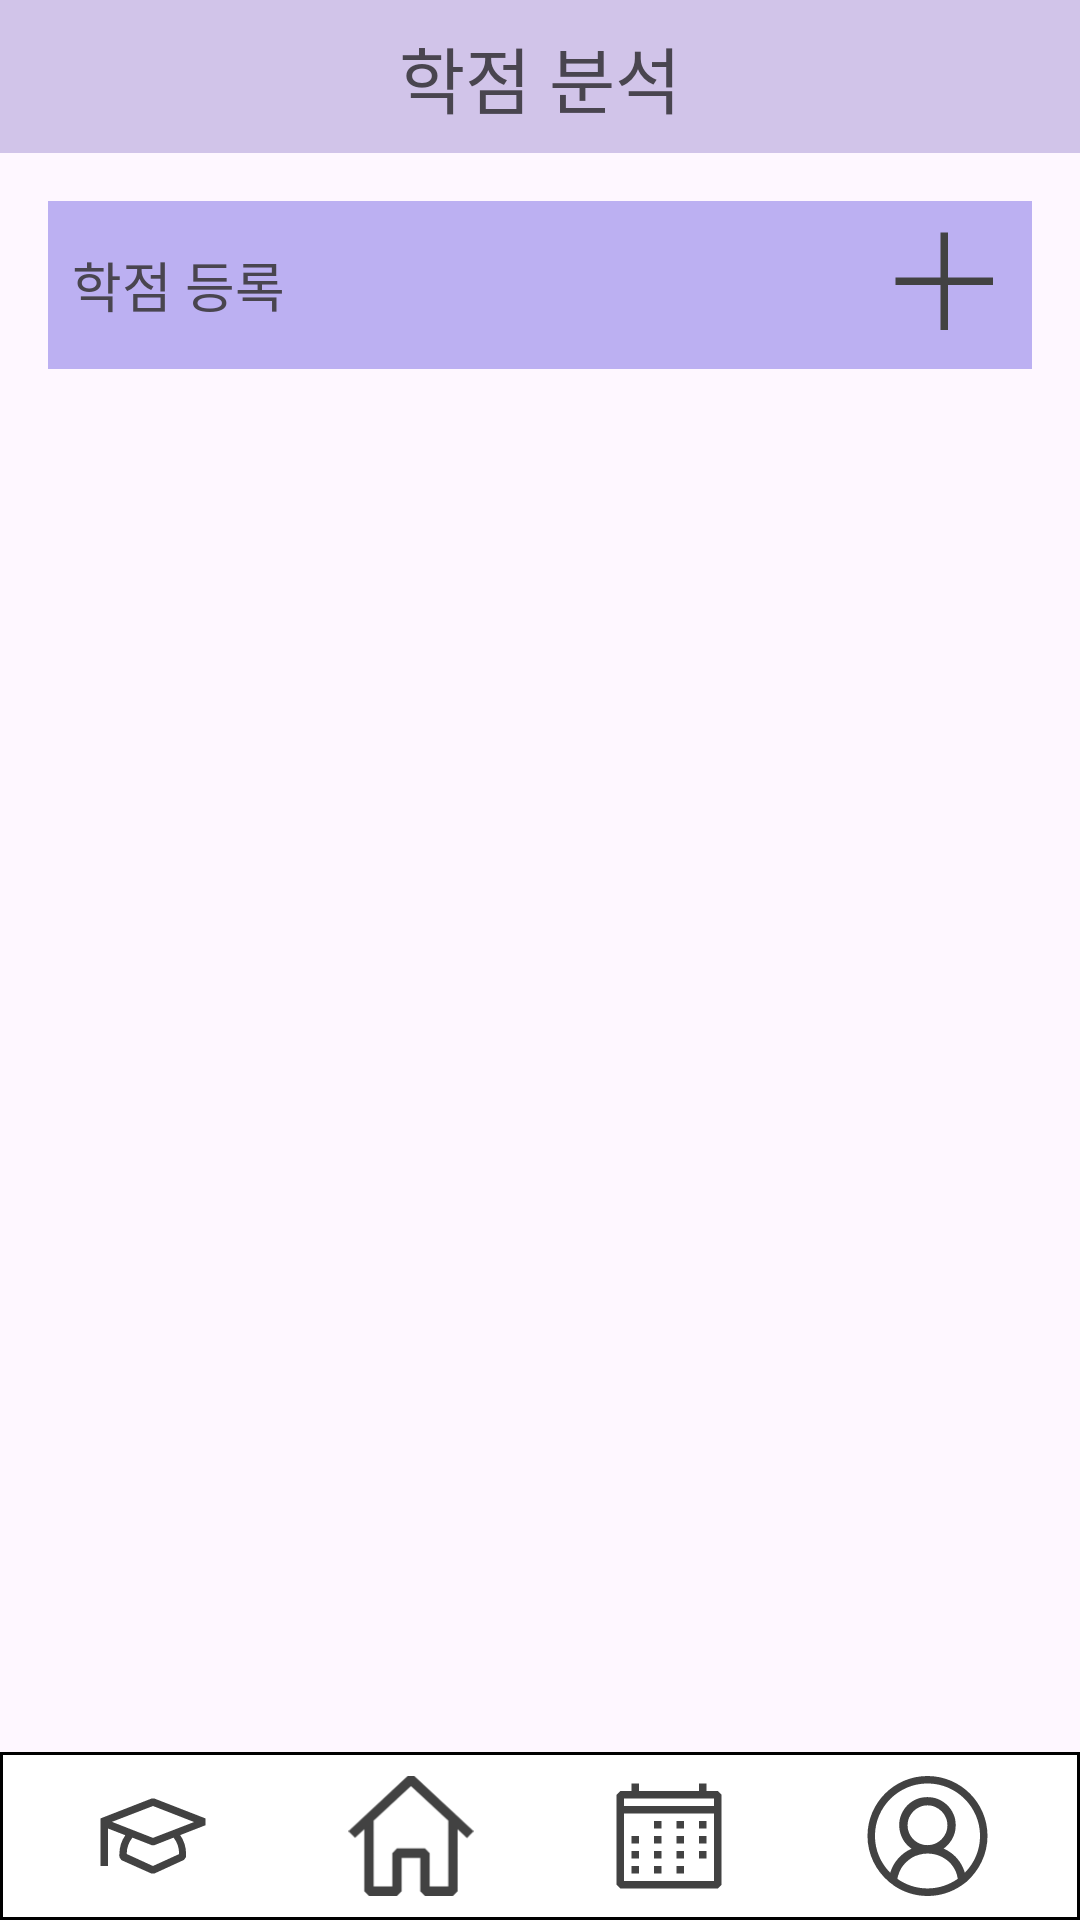

Icons on this 1080x1920 Android screen, each with its box as (x1, y1, x2, y2):
add: (895, 232, 993, 330)
home: (348, 1776, 474, 1896)
plan: (616, 1783, 722, 1889)
profile: (867, 1776, 988, 1896)
score: (100, 1798, 206, 1874)
